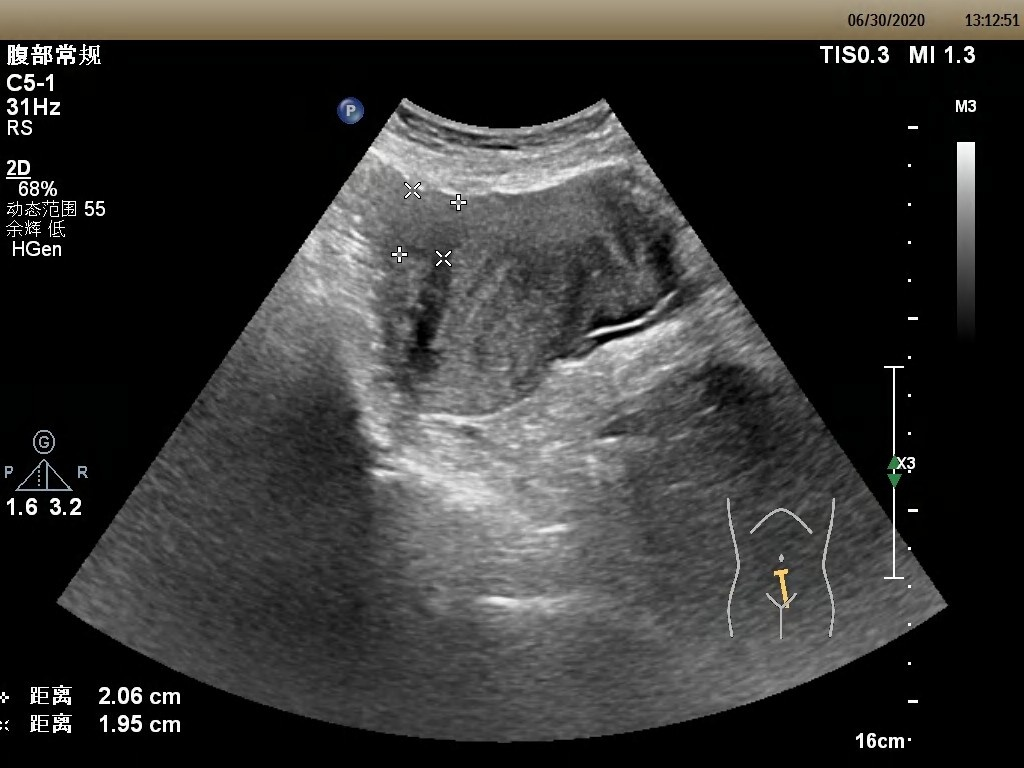肌瘤: (401, 190, 458, 258)
